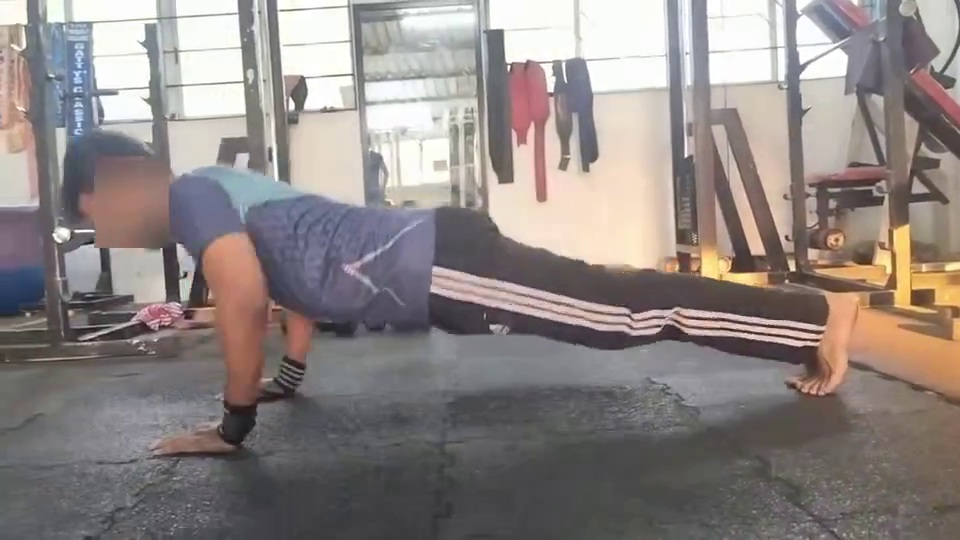push_up_correct: (105, 158, 827, 498)
